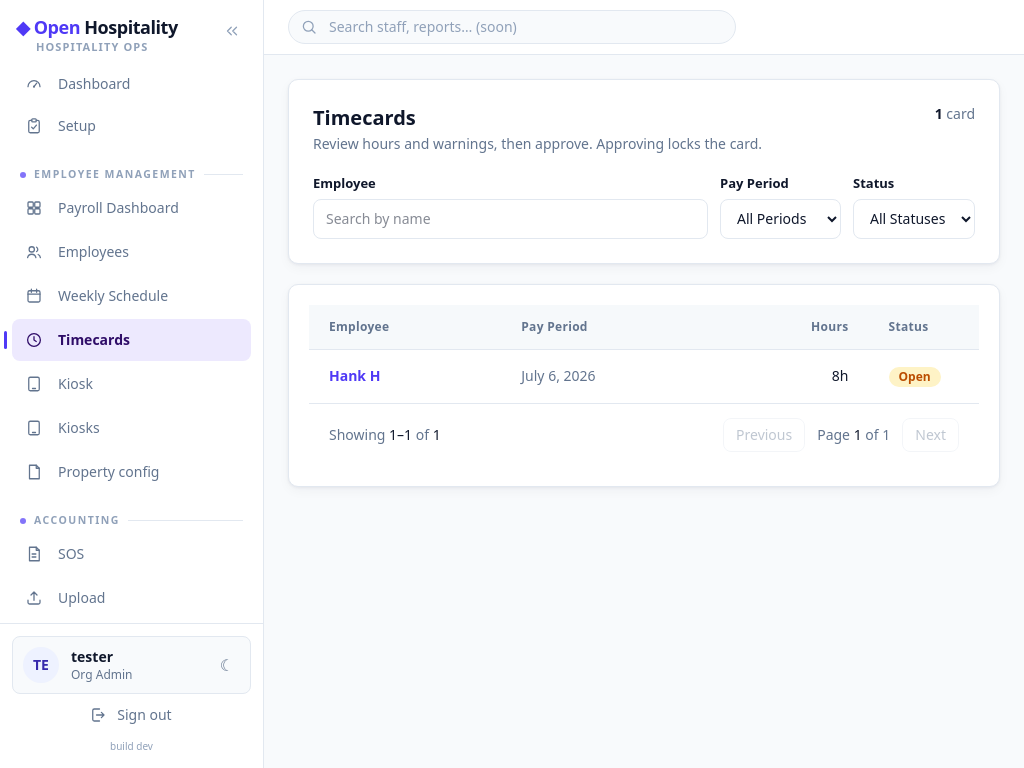
it: TimecardsPage › shows match badges: green verified with score, grey no-template, red unverified
The image size is (1024, 768).
Step 1. Click the button "Hank H" → click(355, 376), box [329,366,380,386]
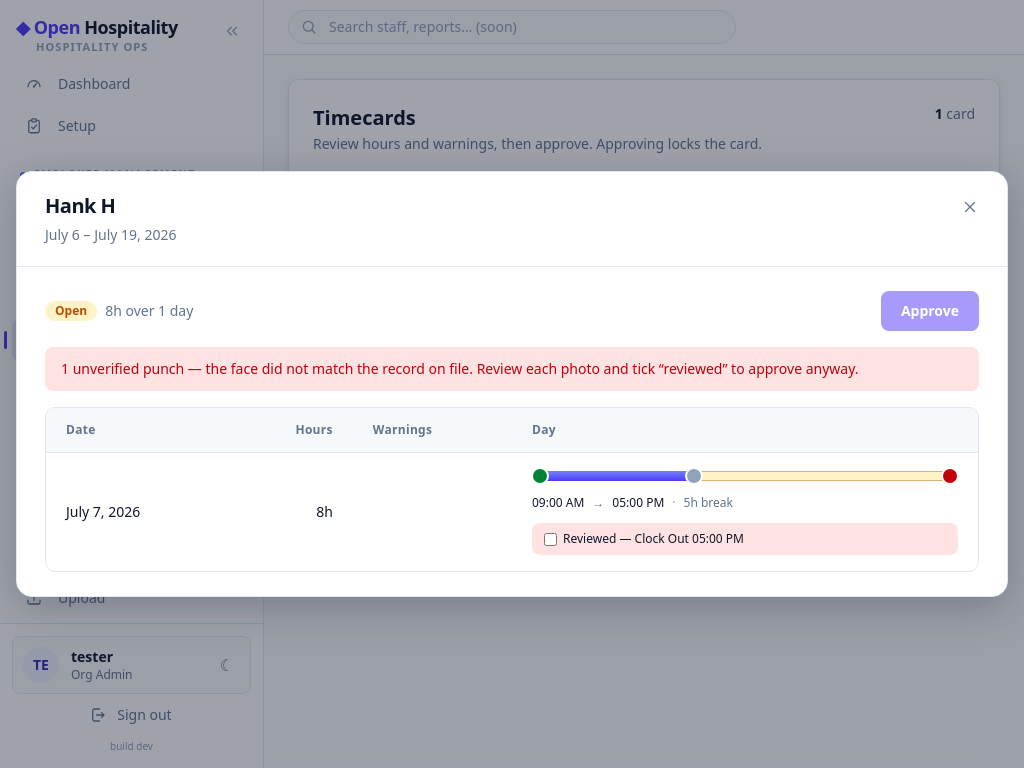
Step 2. Click the button named "Clock In" → click(540, 476), box [533,469,547,483]
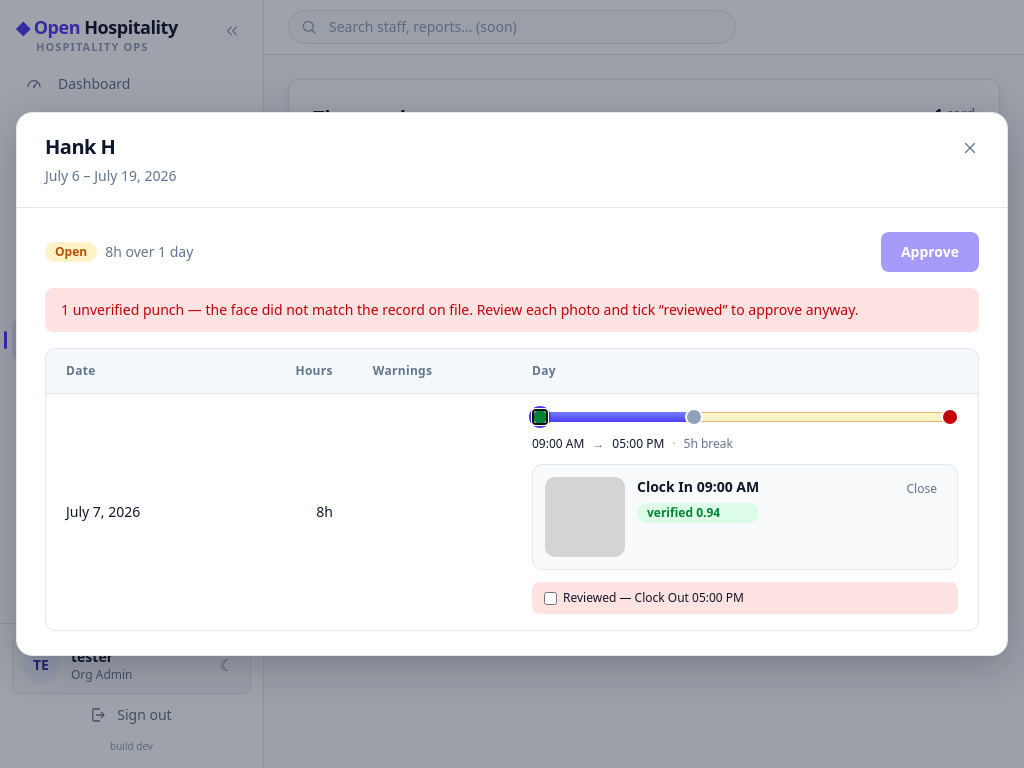
expect the text "verified 0.94" is shown: met, box [637,503,759,523]
Step 3. Click the button named "Lunch Start" → click(694, 417), box [687,410,701,424]
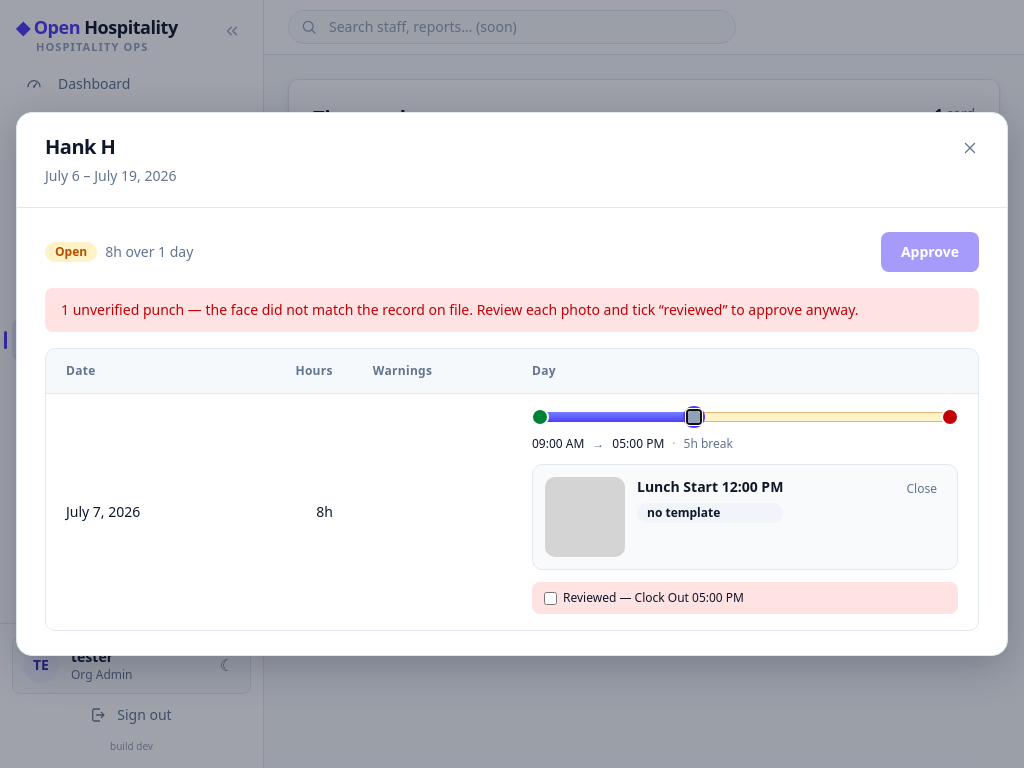
expect the text "no template" is shown: met, box [637,503,783,523]
Step 4. Click the button named "Clock Out" → click(950, 417), box [943,410,957,424]
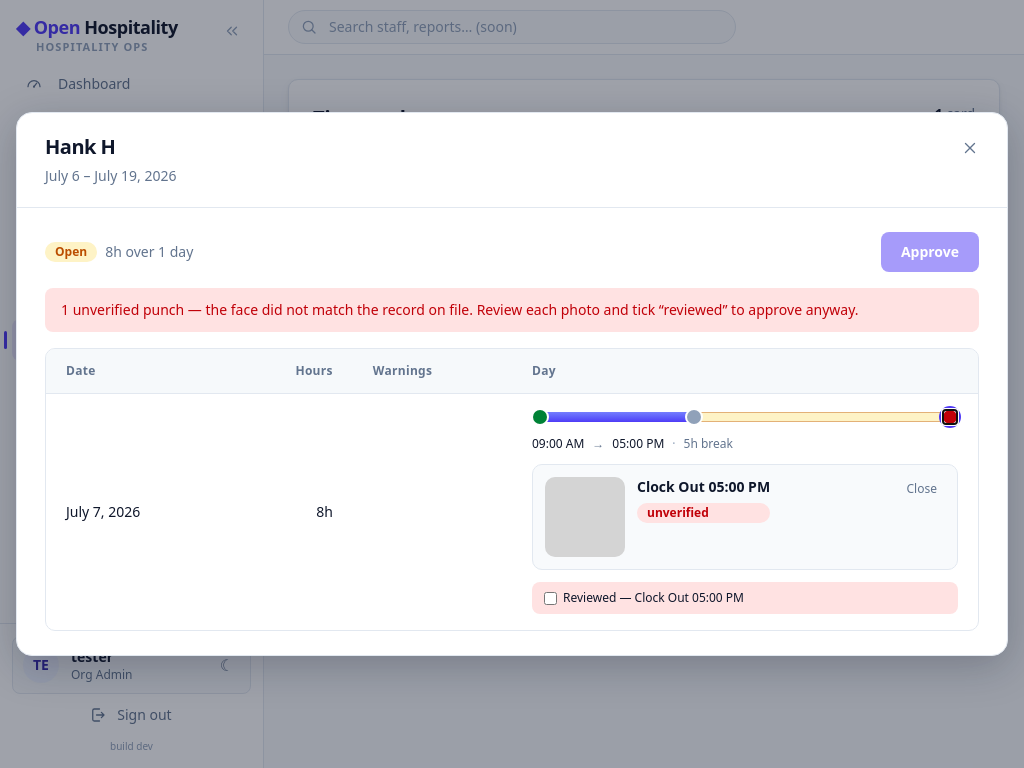
expect the text "unverified" is shown: met, box [637,503,770,523]
